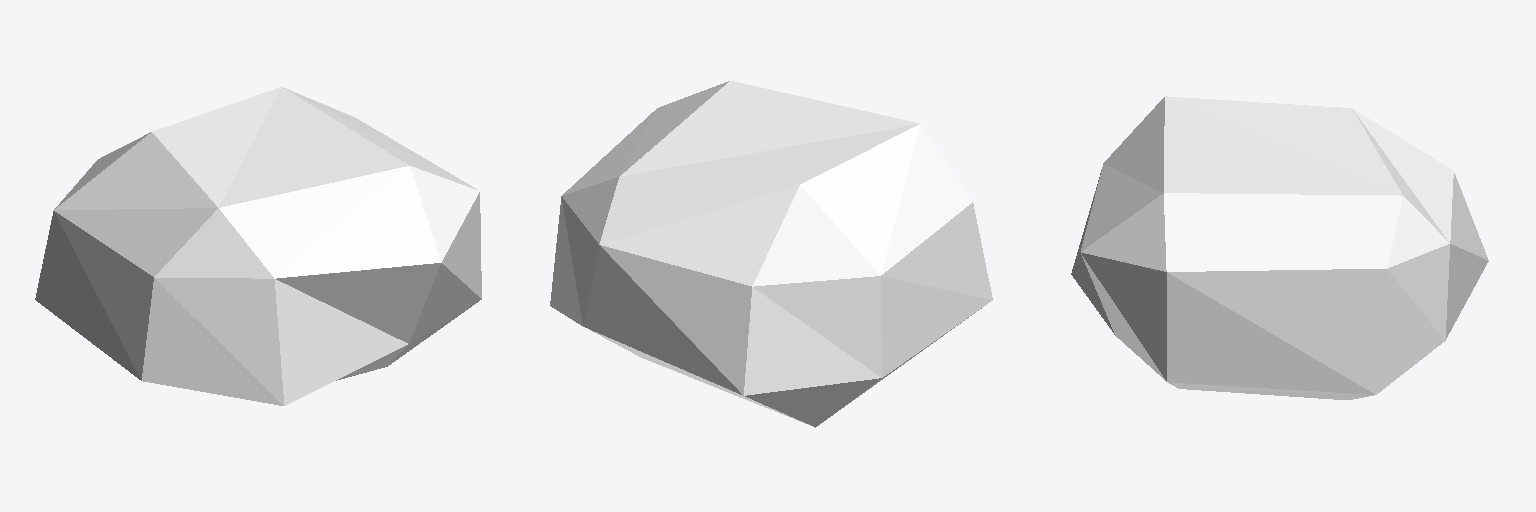
Rendered from Fire01.obj.
3 renders of one model, left to right at view 1: azimuth 30°, elevation 25°; view 2: azimuth 150°, elevation 25°; view 3: azimuth 270°, elevation 25°, orthographic.
Visible parts, largest first — view 1: Fire01; view 2: Fire01; view 3: Fire01.
Boxes of the visible parts, <box> form: Fire01: <box>35,87,481,405</box>; Fire01: <box>550,81,992,427</box>; Fire01: <box>1071,96,1488,399</box>.
Size of the model in its own units: 0.4756 by 0.3065 by 0.5068.